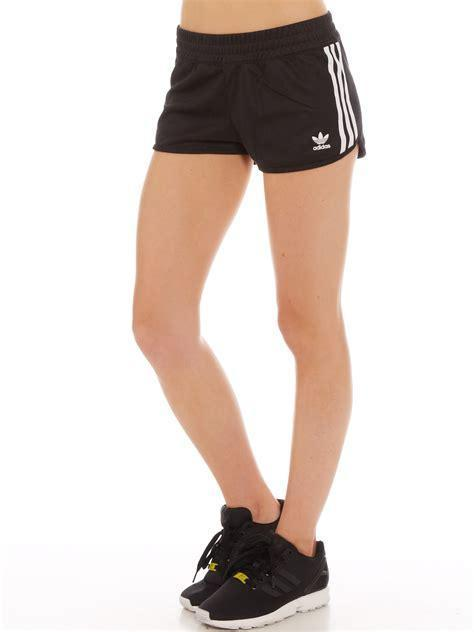short: (152, 11, 368, 172)
